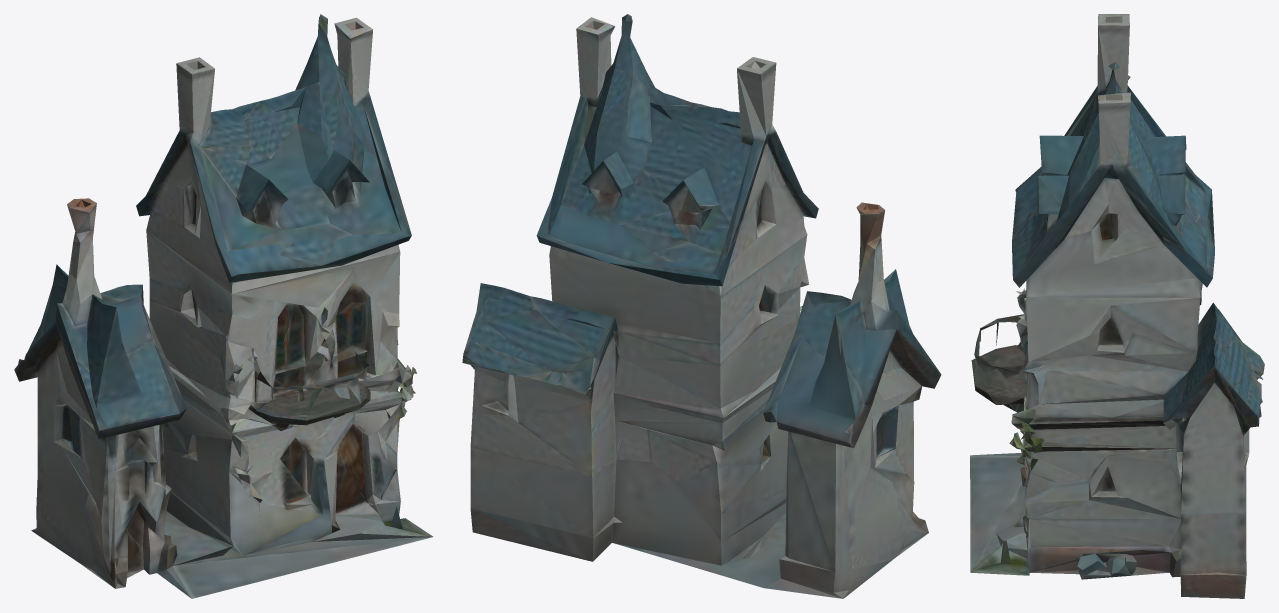
Rendered from elfhouse.glb.
The picture shows the model from 3 angles, left to right: view 1: azimuth 30°, elevation 25°; view 2: azimuth 150°, elevation 25°; view 3: azimuth 270°, elevation 25°; orthographic projection.
Bounding box in the file's own units: 1.42 × 1.83 × 0.9897.
1 material, 1 textured.
